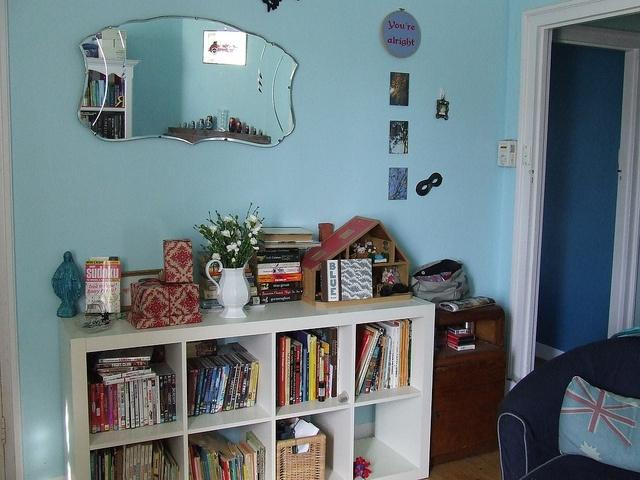Rak: (72, 302, 435, 479)
